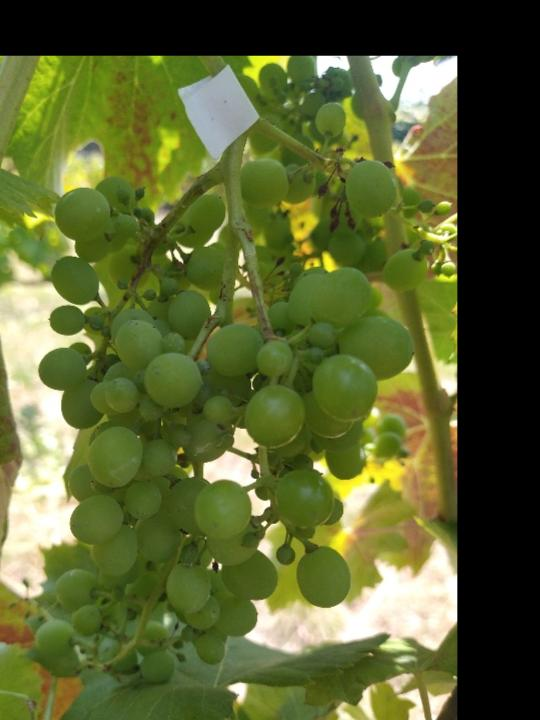grape: (33, 102, 416, 687)
